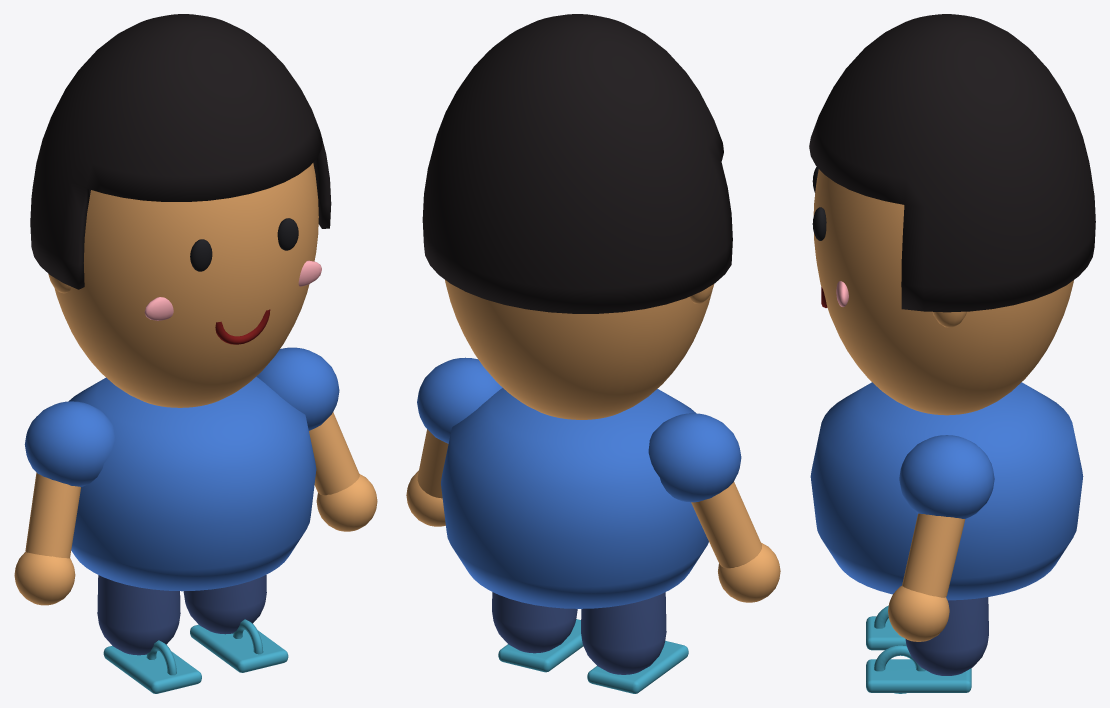
The model's file is customer_suki.glb.
3 views of the same model, side by side, from view 1: azimuth 30°, elevation 25°; view 2: azimuth 150°, elevation 25°; view 3: azimuth 270°, elevation 25° (orthographic). The views are drawn at different scales.
Visible parts, largest first — view 1: Hair, HeadSkin, Torso, Sleeve-1, Leg-1, Sleeve1, UpperArmR, Leg1, UpperArmL, HandR, Shoe1, Shoe-1 (+4 smaller); view 2: Hair, Torso, HeadSkin, Sleeve-1, Leg-1, Sleeve1, UpperArmR, Leg1, HandR, Shoe-1, Shoe1, UpperArmL (+1 smaller); view 3: Hair, Torso, HeadSkin, Sleeve1, Leg1, UpperArmL, Shoe1, HandL, Shoe-1, Strap1.
Boxes of the visible parts, <box> form: Hair: <box>30,14,331,289</box>; HeadSkin: <box>54,163,318,407</box>; Torso: <box>68,376,316,591</box>; Sleeve-1: <box>24,401,114,486</box>; Leg-1: <box>97,575,180,655</box>; Sleeve1: <box>256,347,339,430</box>; UpperArmR: <box>25,472,80,558</box>; Leg1: <box>183,575,266,634</box>; UpperArmL: <box>309,412,359,495</box>; HandR: <box>14,552,75,605</box>; Shoe1: <box>190,624,288,672</box>; Shoe-1: <box>103,645,201,693</box>; Hair: <box>422,14,732,313</box>; Torso: <box>441,388,708,608</box>; HeadSkin: <box>445,280,711,419</box>; Sleeve-1: <box>648,413,741,502</box>; Leg-1: <box>581,592,666,674</box>; Sleeve1: <box>417,357,502,443</box>; UpperArmR: <box>691,482,761,568</box>; Leg1: <box>492,592,577,653</box>; HandR: <box>718,542,780,602</box>; Shoe-1: <box>587,641,688,693</box>; Shoe1: <box>498,619,583,672</box>; UpperArmL: <box>417,429,448,498</box>; Hair: <box>809,14,1095,312</box>; Torso: <box>810,382,1083,600</box>; HeadSkin: <box>813,169,1073,415</box>; Sleeve1: <box>899,435,994,518</box>; Leg1: <box>905,597,988,675</box>; UpperArmL: <box>902,513,965,597</box>; Shoe1: <box>866,659,971,692</box>; HandL: <box>888,586,949,641</box>; Shoe-1: <box>866,616,906,650</box>; Strap1: <box>874,645,925,693</box>.
Bounding box in the file's own units: 0.6808 × 1.17 × 0.4694.
